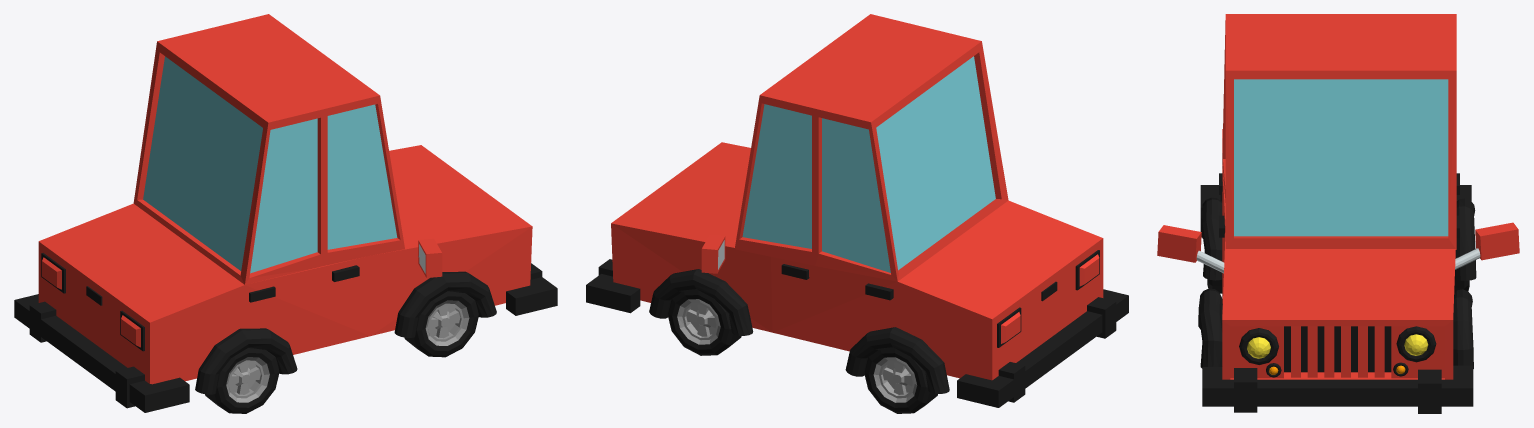
Rendered from group372328564_lev3.glb.
3 views of the same model, side by side, from view 1: azimuth 30°, elevation 25°; view 2: azimuth 150°, elevation 25°; view 3: azimuth 270°, elevation 25° (orthographic). The views are drawn at different scales.
Visible parts, largest first — view 1: group372328564_lev3; view 2: group372328564_lev3; view 3: group372328564_lev3.
Part boxes in pixels (x1,y1,x2,y2): group372328564_lev3: [14, 14, 557, 413]; group372328564_lev3: [586, 14, 1128, 413]; group372328564_lev3: [1157, 14, 1519, 413].
Size of the model in its own units: 2.81 by 1.82 by 2.03.
